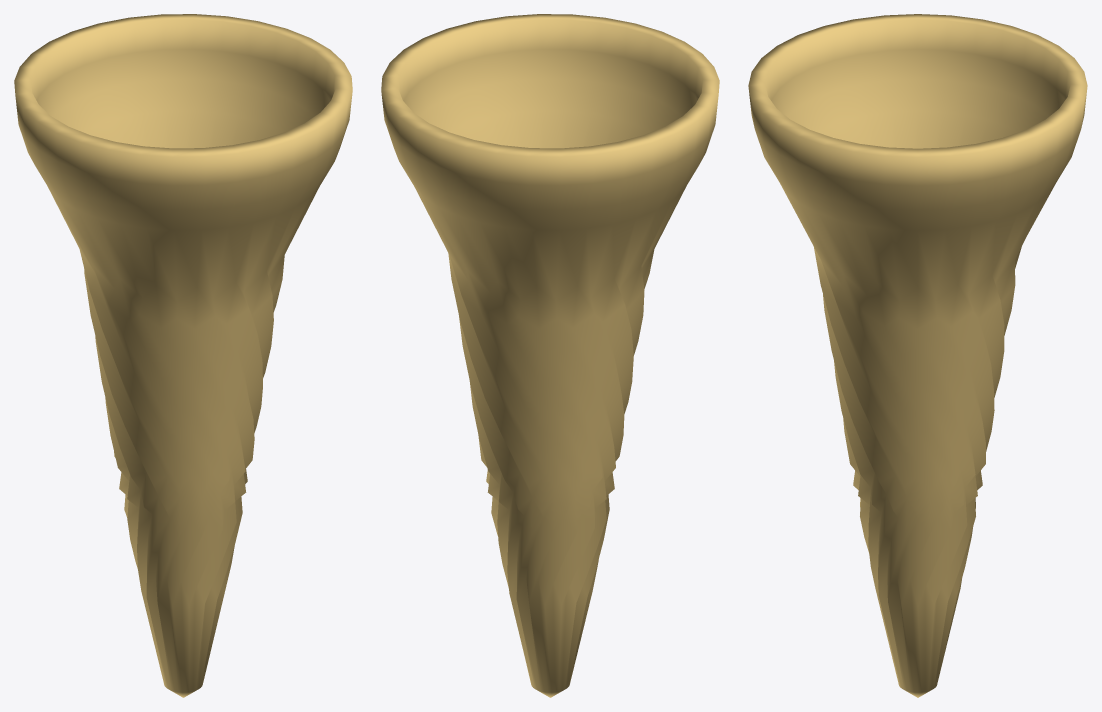
The picture shows the model from 3 angles, left to right: view 1: azimuth 30°, elevation 25°; view 2: azimuth 150°, elevation 25°; view 3: azimuth 270°, elevation 25°; orthographic projection.
Visible parts, largest first — view 1: Cone M; view 2: Cone M; view 3: Cone M.
Boxes of the visible parts, x1,y1,x2,y2 form: Cone M: (14,14,352,697); Cone M: (381,14,719,697); Cone M: (748,14,1087,697).
Bounding box in the file's own units: 2 × 3.99 × 2.
